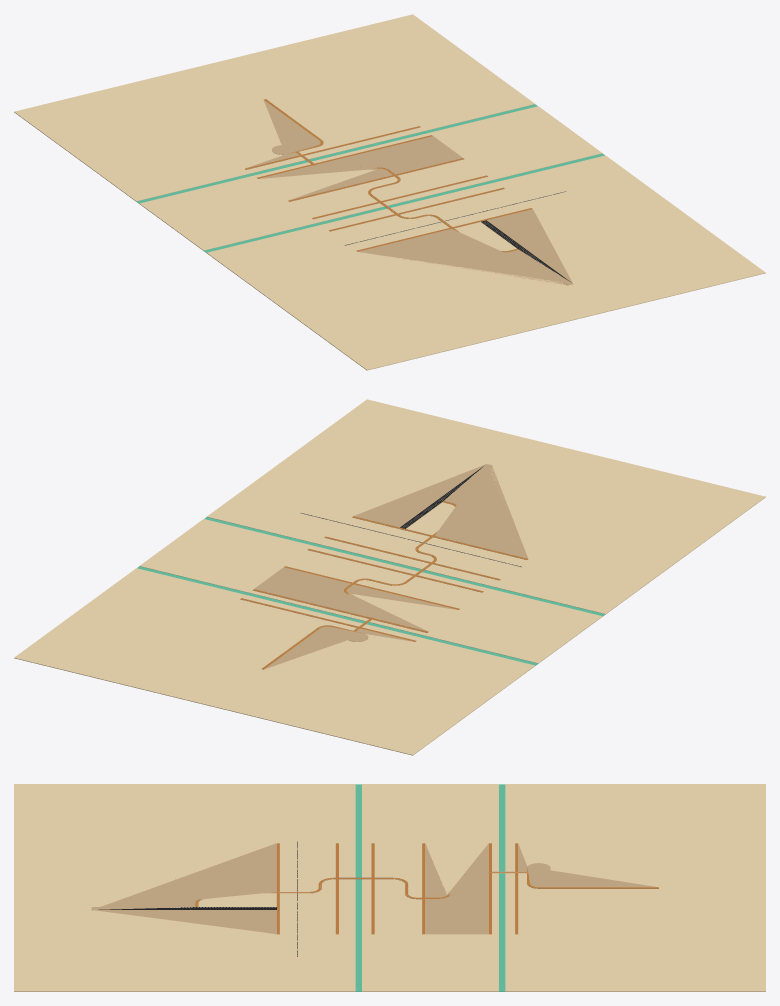
3 views of the same model, one above another, from view 1: azimuth 30°, elevation 25°; view 2: azimuth 150°, elevation 25°; view 3: azimuth 270°, elevation 25° (orthographic). The views are drawn at different scales.
Visible parts, largest first — view 1: 29.06; view 2: 29.06; view 3: 29.06.
Part boxes in pixels (<box>): 29.06: <box>14,14,765,370</box>; 29.06: <box>14,399,765,755</box>; 29.06: <box>14,784,765,991</box>.
Bounding box in the file's own units: 4704 × 8.66 × 7209.
10 materials, 10 textured.
